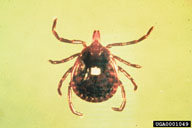Mites: (42, 12, 152, 121)
